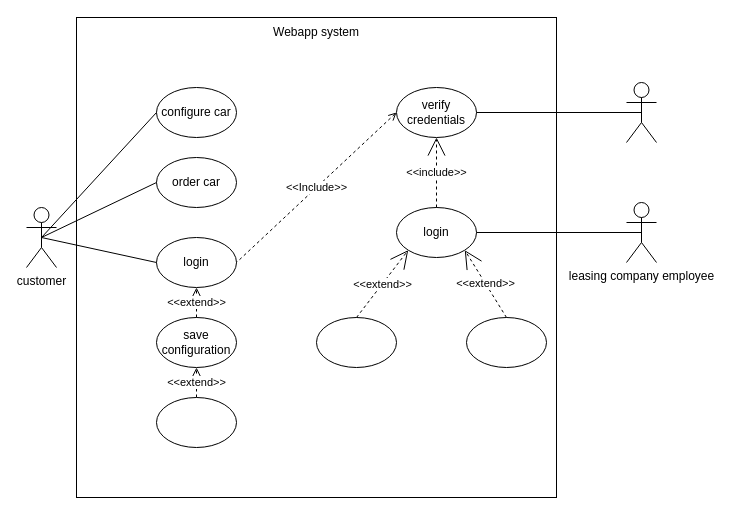
This 731x515 diagram has some shape labels left out. Here are the shapes that lost their labels. From the top down, the centre of each, then its label:
[641,112]: system
[356,342]: modify car
[506,342]: add car
[196,422]: get configuration history
